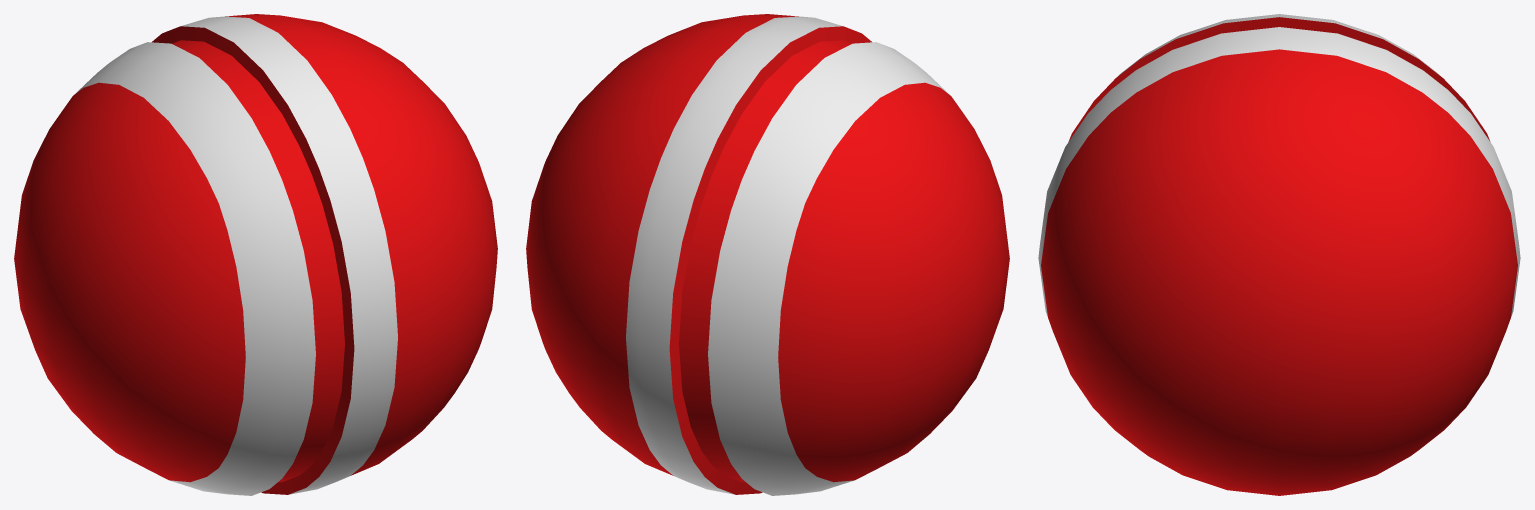
File: resulta 2.fbx
3 views of the same model, side by side, from view 1: azimuth 30°, elevation 25°; view 2: azimuth 150°, elevation 25°; view 3: azimuth 270°, elevation 25° (orthographic).
Visible parts, largest first — view 1: Cube; view 2: Cube; view 3: Cube.
Part boxes in pixels (left/top/right/bottom): Cube: left=14, top=14, right=497, bottom=495; Cube: left=526, top=14, right=1009, bottom=495; Cube: left=1038, top=14, right=1520, bottom=495.
Bounding box in the file's own units: 10001 × 9994 × 9994.
